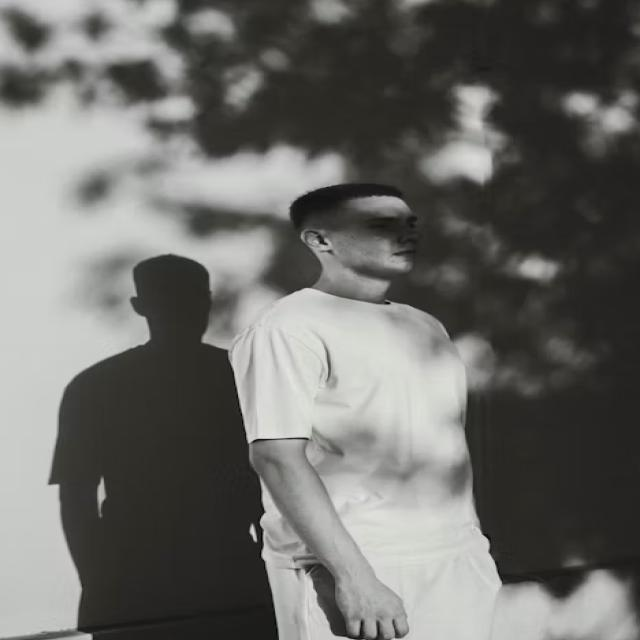Edited images: (231, 173, 541, 640)
